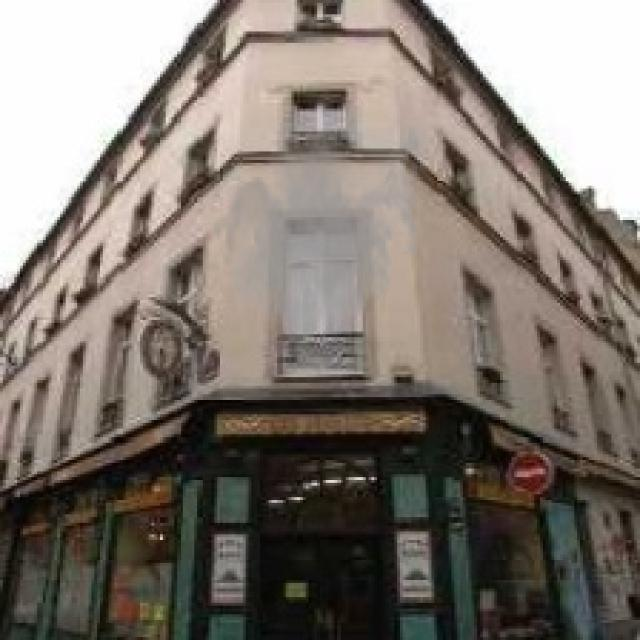Smoke: (208, 86, 432, 352)
